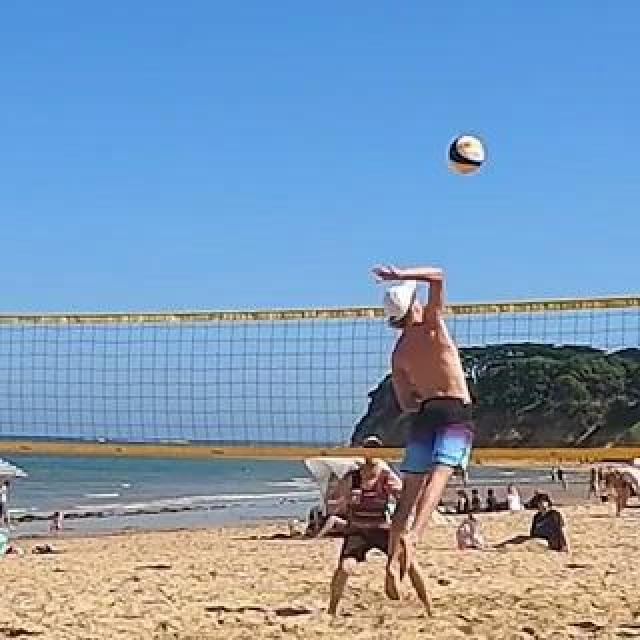volleyball: (448, 135, 484, 173)
